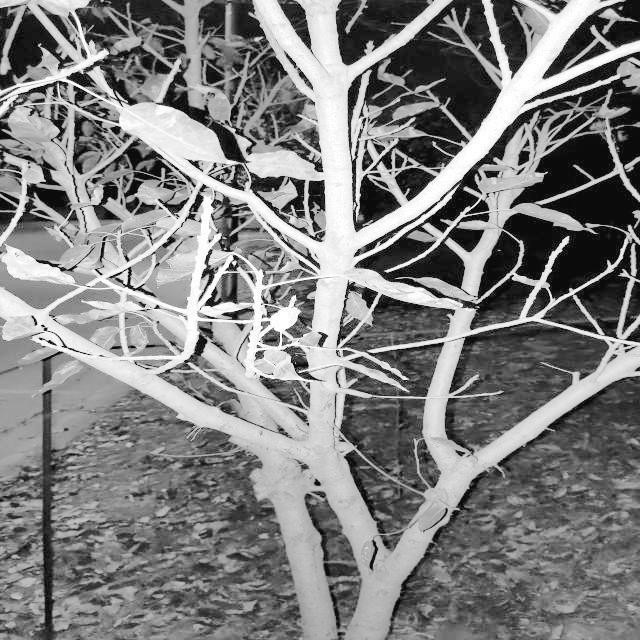Tree: (98, 3, 549, 640)
